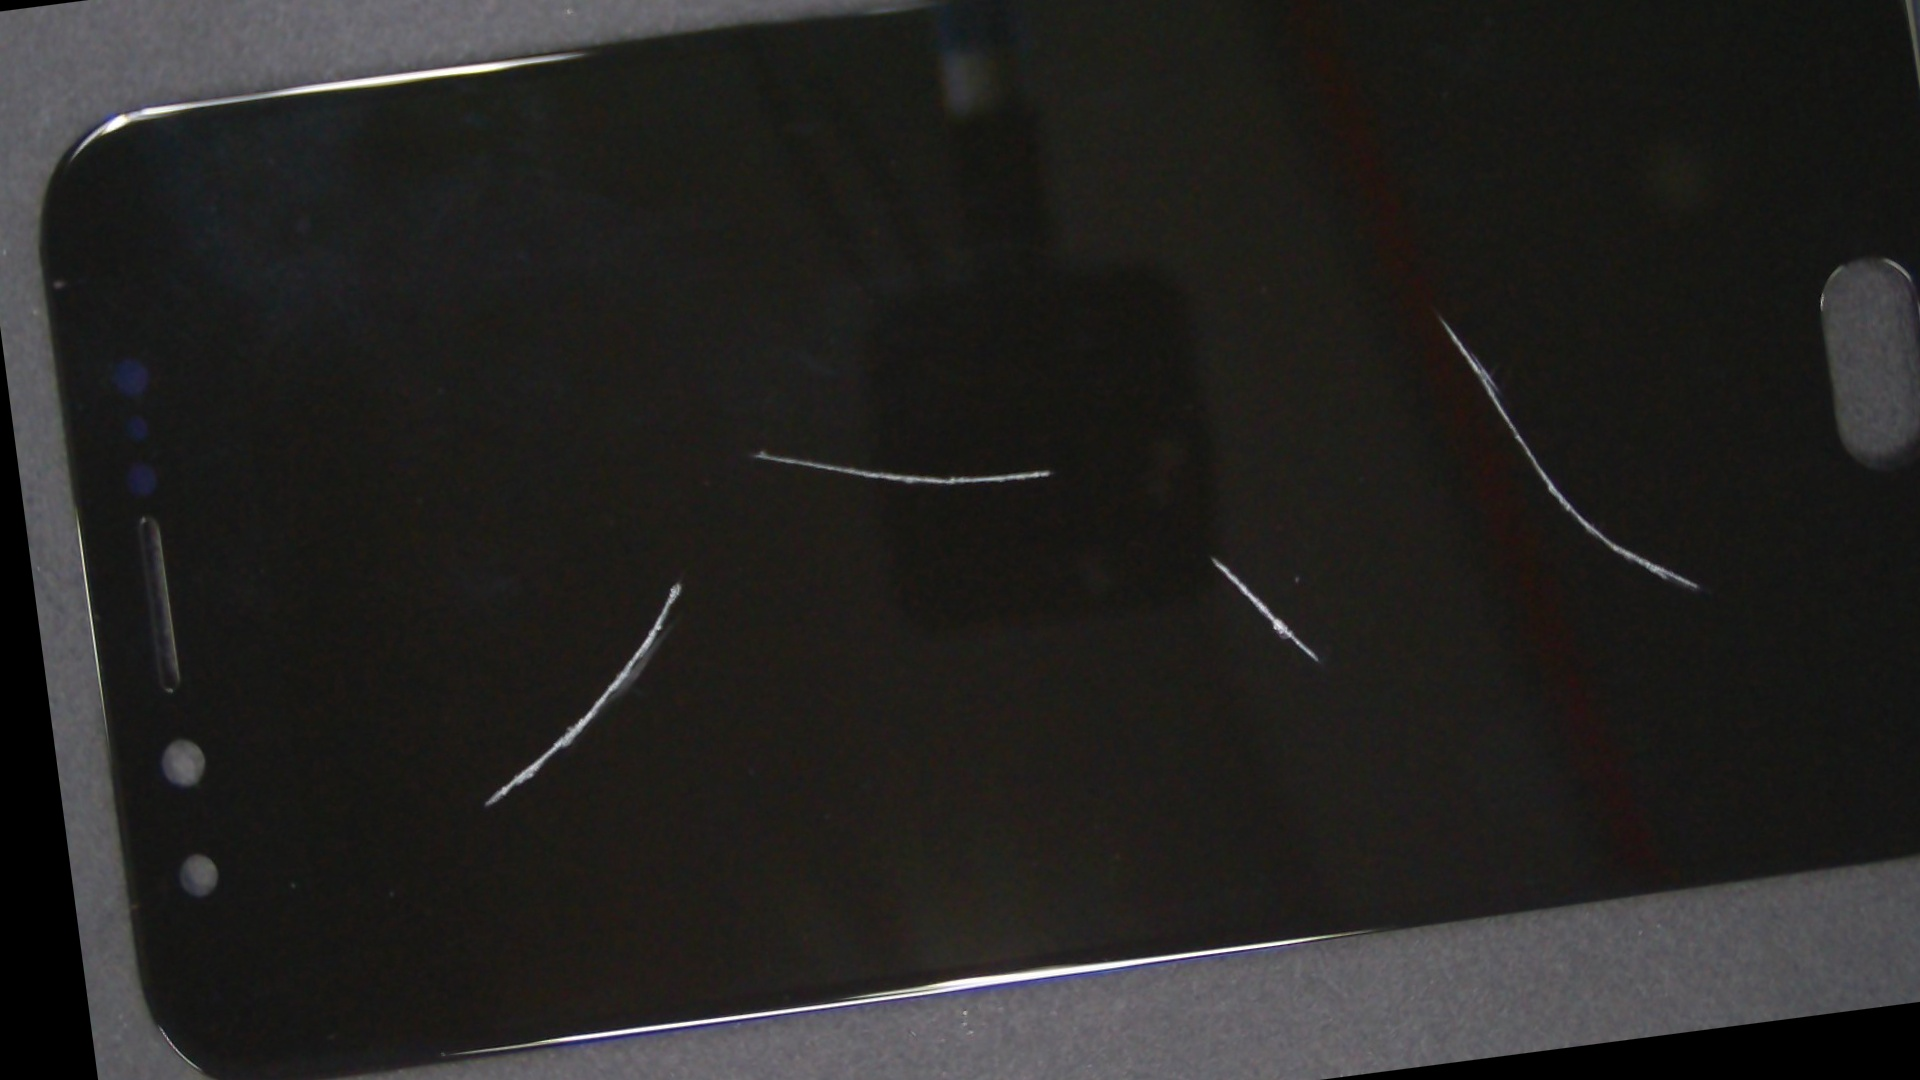oil: (585, 135, 1836, 980), (699, 0, 1920, 653), (320, 216, 1039, 948), (360, 138, 1156, 765)
